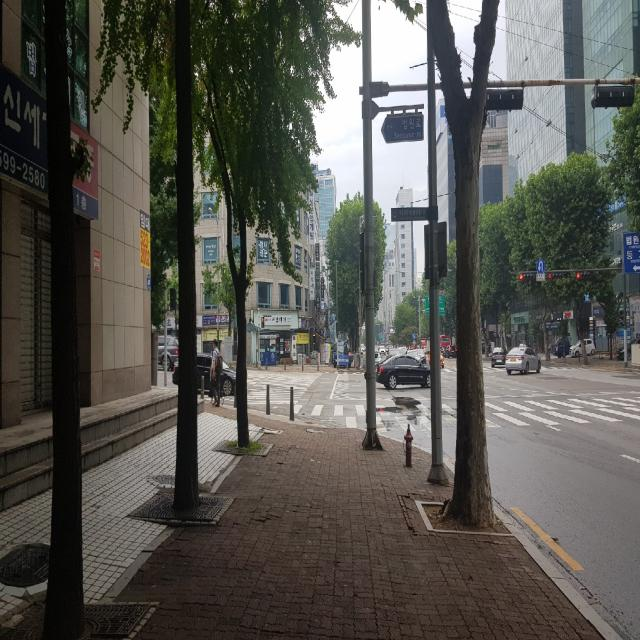횡단보도: (488, 393, 640, 430), (206, 371, 323, 409), (333, 398, 362, 430)
